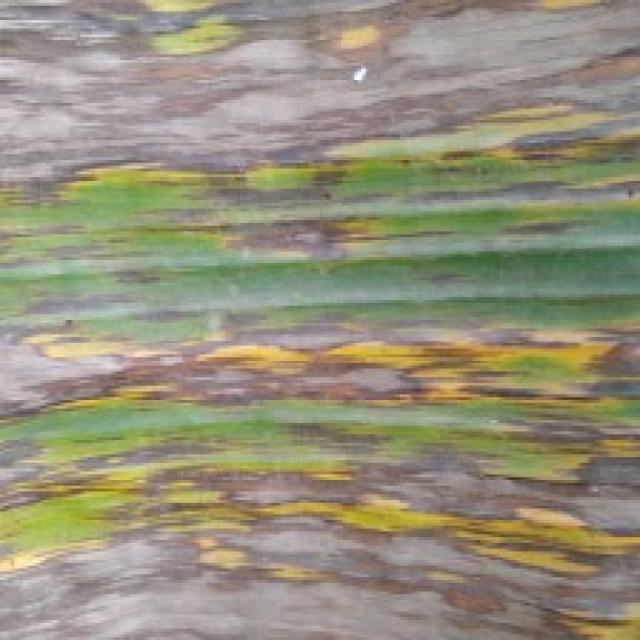Early_leaf_spot: (0, 0, 630, 284), (0, 427, 640, 640), (0, 293, 640, 431)
